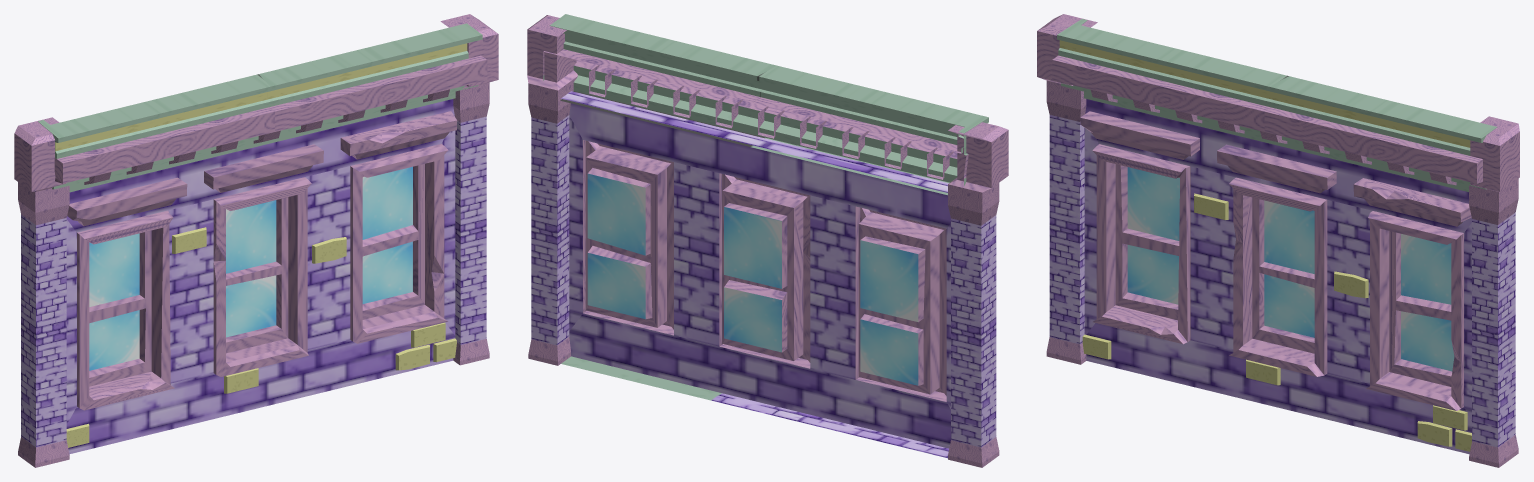
The model's file is House_Front_05.fbx.
3 renders of one model, left to right at view 1: azimuth 30°, elevation 25°; view 2: azimuth 150°, elevation 25°; view 3: azimuth 330°, elevation 25°, orthographic.
Visible parts, largest first — view 1: SM_Bld_Apartment_Roof_Corner_03; view 2: SM_Bld_Apartment_Roof_Corner_03; view 3: SM_Bld_Apartment_Roof_Corner_03.
Part boxes in pixels (x1,y1,x2,y2): SM_Bld_Apartment_Roof_Corner_03: [14, 14, 498, 467]; SM_Bld_Apartment_Roof_Corner_03: [527, 14, 1008, 467]; SM_Bld_Apartment_Roof_Corner_03: [1037, 14, 1519, 467].
Bounding box in the file's own units: 5.49 × 3.73 × 0.6046.
